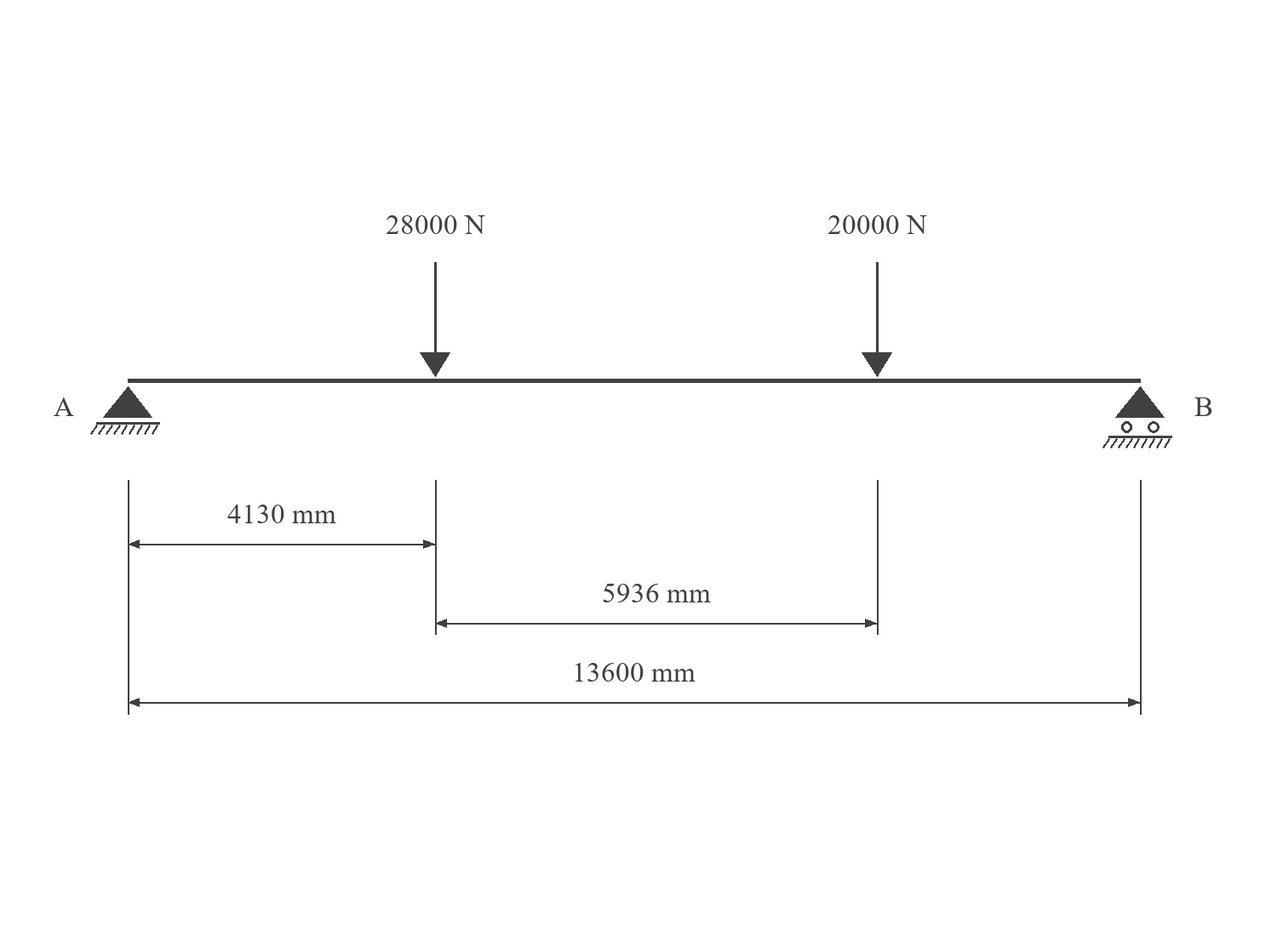pin_support: (90, 386, 160, 435)
point_load: (420, 262, 450, 377), (862, 262, 892, 377)
roller_support: (1102, 386, 1172, 448)
